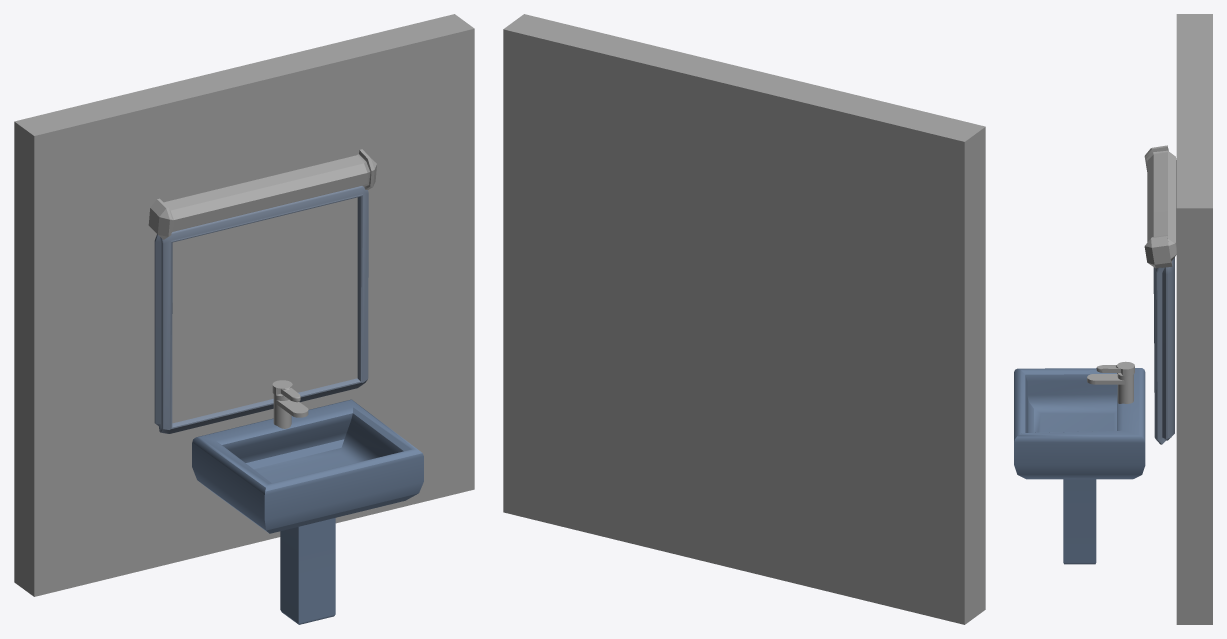
Rendered from Espejo.fbx.
The picture shows the model from 3 angles, left to right: view 1: azimuth 30°, elevation 25°; view 2: azimuth 150°, elevation 25°; view 3: azimuth 270°, elevation 25°; orthographic projection. The views are drawn at different scales.
Parts seen in each view (by area): view 1: pared, espejo, lavabo, luz, pCylinder1; view 2: pared; view 3: pared, lavabo, espejo, luz, pCylinder1.
Part boxes in pixels (box(x1,y1,x2,y2)): pared: box(14, 14, 474, 596); espejo: box(154, 186, 368, 433); lavabo: box(192, 399, 423, 624); luz: box(148, 149, 376, 239); pCylinder1: box(272, 380, 308, 428); pared: box(503, 14, 985, 624); pared: box(1176, 14, 1212, 624); lavabo: box(1014, 368, 1145, 564); espejo: box(1153, 257, 1174, 444); luz: box(1144, 145, 1176, 268); pCylinder1: box(1087, 361, 1134, 403).
Bounding box in the file's own units: 15.83 × 16.95 × 6.84.
